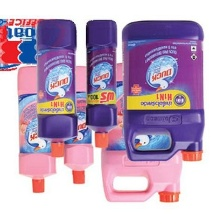cleaning_solution: (99, 58, 184, 207), (121, 18, 207, 165), (33, 16, 79, 159), (17, 62, 57, 194), (83, 17, 119, 150), (60, 63, 94, 188)
